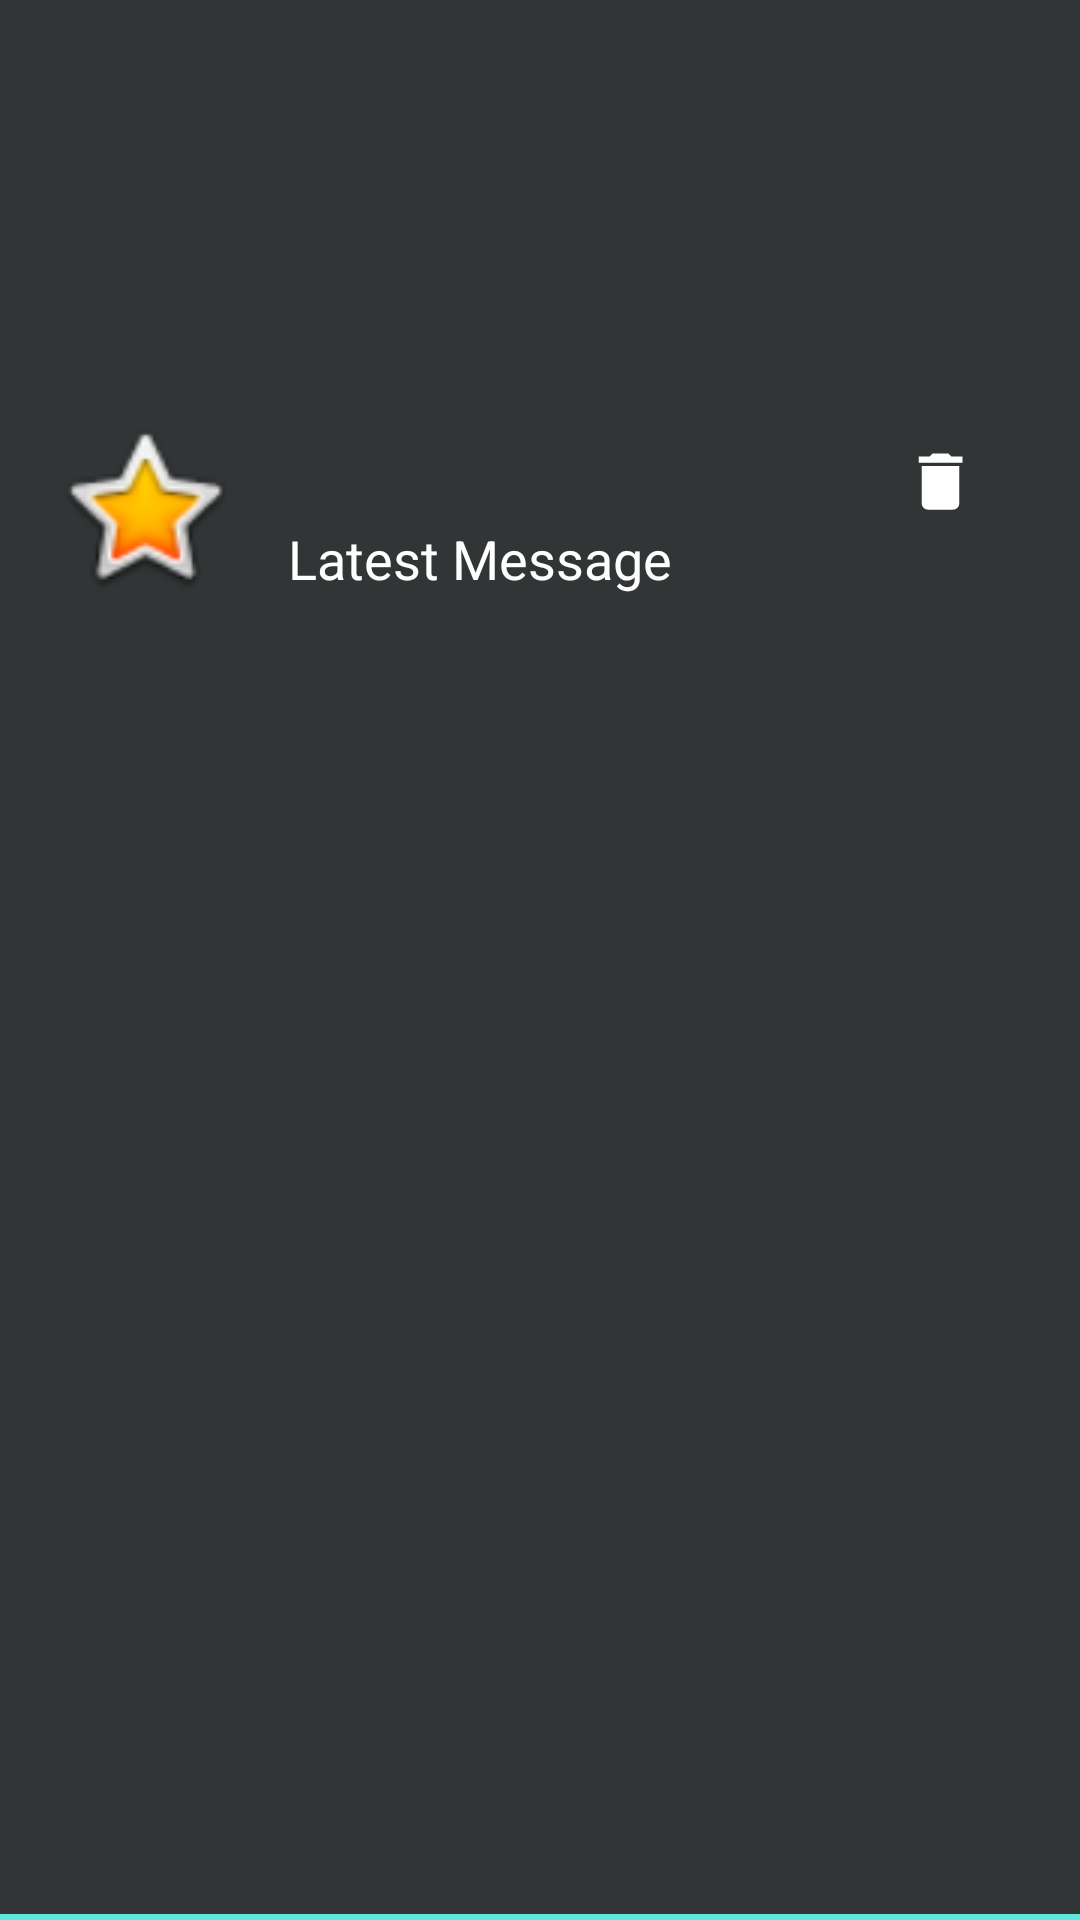

Point at icon controls on the screen. Image size 1080px×1920px, points as [x,y].
delete: [940,481]
star on: [146,506]
